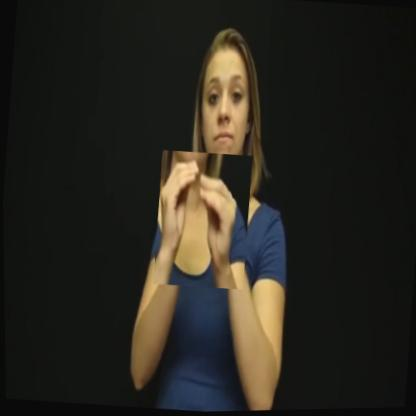Fix: (151, 149, 254, 293)
